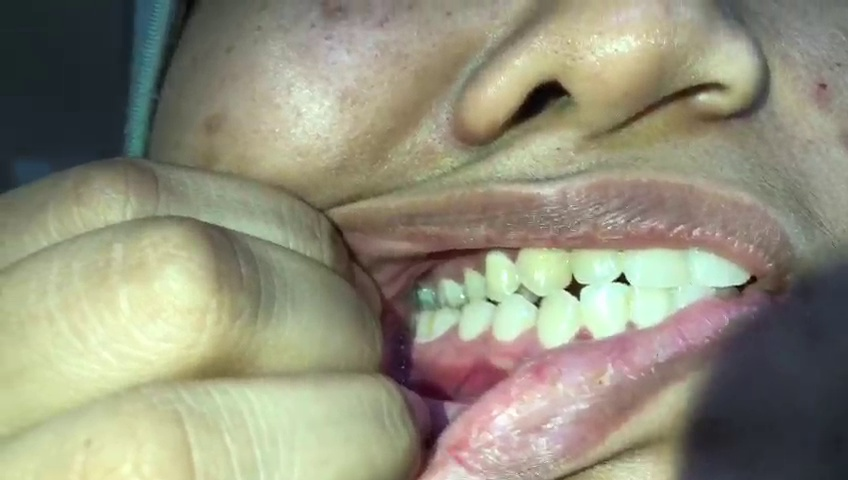1st Molar: (431, 308, 461, 340), (436, 275, 464, 306)
1st Premolar: (490, 293, 539, 345), (484, 248, 520, 302)
2nd Molar: (411, 307, 432, 345), (413, 285, 436, 308)
2nd Premolar: (458, 299, 494, 342), (462, 265, 486, 307)
Canine: (515, 240, 573, 297), (538, 291, 578, 351)
Lateral Incisor: (579, 281, 630, 341)
